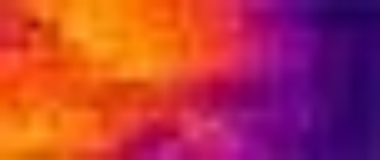Shadow: (240, 1, 380, 160)
